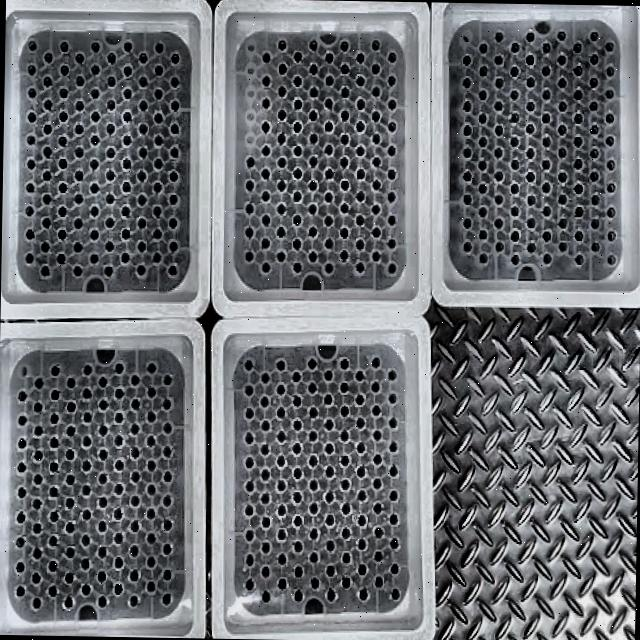vial: (606, 254, 617, 268), (605, 64, 615, 77), (26, 39, 36, 52), (105, 146, 115, 159), (49, 460, 59, 473), (49, 436, 58, 450), (494, 170, 504, 182), (573, 87, 582, 100), (17, 414, 26, 427), (557, 29, 566, 41), (605, 112, 614, 124), (542, 205, 551, 217), (355, 145, 364, 157), (152, 252, 161, 264), (260, 444, 269, 456), (373, 501, 382, 513), (340, 502, 349, 514), (390, 537, 399, 549), (162, 543, 171, 555), (66, 546, 75, 558), (32, 547, 41, 559), (526, 30, 534, 43), (17, 437, 25, 450), (557, 194, 567, 204), (494, 101, 503, 112), (574, 206, 583, 217), (478, 206, 487, 217), (542, 253, 551, 264), (261, 121, 270, 132), (245, 179, 254, 190), (60, 41, 69, 52), (123, 65, 132, 76), (154, 88, 163, 99), (74, 147, 83, 158), (154, 158, 163, 169), (339, 358, 348, 369), (261, 542, 270, 553), (359, 589, 368, 600), (50, 389, 59, 400), (64, 597, 73, 608), (81, 584, 90, 595), (293, 121, 301, 133), (123, 40, 131, 52), (371, 381, 379, 393), (309, 430, 317, 442), (278, 553, 286, 565), (261, 590, 269, 602), (82, 387, 90, 399), (131, 471, 139, 483), (65, 572, 73, 584), (16, 586, 24, 598), (557, 124, 566, 134), (510, 159, 519, 169), (574, 230, 583, 240), (277, 40, 286, 50), (276, 251, 285, 261), (154, 65, 163, 75), (43, 76, 52, 86), (170, 100, 179, 110), (169, 171, 178, 181), (168, 194, 177, 204), (169, 241, 178, 251), (276, 407, 285, 417), (325, 466, 334, 476), (356, 467, 365, 477), (341, 480, 350, 490), (324, 492, 333, 502), (293, 516, 302, 526), (325, 514, 334, 524), (277, 529, 286, 539), (326, 590, 335, 600), (50, 366, 59, 376), (66, 377, 75, 387), (34, 378, 43, 388), (98, 399, 107, 409), (49, 416, 58, 426), (114, 412, 123, 422), (114, 435, 123, 445), (34, 450, 43, 460), (66, 475, 75, 485), (49, 486, 58, 496), (16, 511, 25, 521), (65, 522, 74, 532), (81, 535, 90, 545), (146, 533, 155, 543), (48, 561, 57, 571), (48, 587, 57, 597), (589, 31, 597, 42), (606, 135, 614, 146), (526, 171, 534, 182), (558, 170, 566, 181), (511, 254, 519, 265), (170, 77, 178, 88), (153, 205, 161, 216), (169, 217, 177, 228), (137, 241, 145, 252), (261, 420, 269, 431), (245, 433, 253, 444), (326, 540, 334, 551), (357, 539, 365, 550), (245, 579, 253, 590), (391, 588, 399, 599), (163, 519, 171, 530), (49, 535, 57, 546), (114, 533, 122, 544), (81, 558, 89, 569), (147, 556, 155, 567), (98, 596, 106, 607), (114, 583, 122, 594), (130, 595, 138, 606), (543, 88, 550, 100), (293, 238, 300, 250), (91, 134, 98, 146), (310, 479, 317, 491), (246, 554, 253, 566), (391, 563, 398, 575), (294, 589, 301, 601), (147, 580, 154, 592), (605, 42, 614, 51), (510, 231, 519, 240), (575, 255, 584, 264), (371, 40, 380, 49), (105, 217, 114, 226), (153, 230, 162, 239), (25, 252, 34, 261), (292, 396, 301, 405), (372, 479, 381, 488), (309, 504, 318, 513), (261, 517, 270, 526), (389, 515, 398, 524), (374, 527, 383, 536), (341, 528, 350, 537), (114, 484, 123, 493), (98, 497, 107, 506), (574, 66, 582, 76), (542, 43, 550, 53), (495, 32, 503, 42), (511, 42, 519, 52), (589, 78, 597, 88), (510, 89, 518, 99), (542, 113, 550, 123), (463, 126, 471, 136), (573, 136, 581, 146), (558, 147, 566, 157), (606, 159, 614, 169), (574, 159, 582, 169), (574, 183, 582, 193), (463, 194, 471, 204), (527, 195, 535, 205), (607, 231, 615, 241), (463, 241, 471, 251), (591, 242, 599, 252), (479, 253, 487, 263), (341, 86, 349, 96), (356, 100, 364, 110), (372, 111, 380, 121), (246, 156, 254, 166), (340, 156, 348, 166), (325, 169, 333, 179), (341, 179, 349, 189), (293, 191, 301, 201), (324, 216, 332, 226), (245, 228, 253, 238), (309, 227, 317, 237), (340, 228, 348, 238), (325, 239, 333, 249), (261, 238, 269, 248), (293, 263, 301, 273), (262, 262, 270, 272), (107, 53, 115, 63), (28, 65, 36, 75), (139, 76, 147, 86), (107, 100, 115, 110), (91, 111, 99, 121), (170, 124, 178, 134), (107, 123, 115, 133), (154, 135, 162, 145), (90, 158, 98, 168), (170, 147, 178, 157), (122, 182, 130, 192), (74, 218, 82, 228), (90, 230, 98, 240), (121, 229, 129, 239), (41, 242, 49, 252), (121, 253, 129, 263), (137, 265, 145, 275), (105, 266, 113, 276), (355, 371, 363, 381), (308, 359, 316, 369), (261, 373, 269, 383), (340, 382, 348, 392), (276, 384, 284, 394), (261, 397, 269, 407), (324, 395, 332, 405), (293, 420, 301, 430), (356, 418, 364, 428), (373, 430, 381, 440), (340, 431, 348, 441), (373, 454, 381, 464), (341, 455, 349, 465), (389, 466, 397, 476), (277, 480, 285, 490), (358, 564, 366, 574), (310, 578, 318, 588), (147, 387, 155, 397), (67, 402, 75, 412), (83, 412, 91, 422), (147, 411, 155, 421), (163, 423, 171, 433), (99, 425, 107, 435), (131, 448, 139, 458), (147, 460, 155, 470), (163, 472, 171, 482), (98, 474, 106, 484), (33, 474, 41, 484), (82, 485, 90, 495), (147, 484, 155, 494), (33, 499, 41, 509), (114, 508, 122, 518), (130, 546, 138, 556), (130, 570, 138, 580), (98, 571, 106, 581), (32, 573, 40, 583), (32, 598, 40, 608), (542, 136, 549, 147), (607, 207, 614, 218), (372, 357, 379, 368), (341, 405, 348, 416), (309, 455, 316, 466), (261, 469, 268, 480), (294, 468, 301, 479), (294, 541, 301, 552), (278, 578, 285, 589), (163, 594, 170, 605), (605, 89, 613, 98), (462, 102, 470, 111), (590, 101, 598, 110), (495, 125, 503, 134), (478, 138, 487, 146), (494, 148, 502, 157), (542, 183, 550, 192), (511, 184, 519, 193), (262, 53, 270, 62), (293, 52, 301, 61), (325, 76, 333, 85), (324, 145, 332, 154), (372, 180, 380, 189), (293, 216, 301, 225), (123, 88, 131, 97), (43, 124, 51, 133), (123, 135, 131, 144), (42, 171, 50, 180), (58, 207, 66, 216), (57, 254, 65, 263), (168, 266, 176, 275), (73, 265, 81, 274), (244, 361, 253, 369), (244, 387, 253, 395), (356, 396, 364, 405), (372, 406, 380, 415), (277, 431, 285, 440), (325, 444, 333, 453), (356, 443, 364, 452), (293, 492, 301, 501), (358, 491, 366, 500), (389, 490, 397, 499), (245, 506, 253, 515), (310, 530, 318, 539), (342, 553, 350, 562), (294, 567, 302, 576), (115, 364, 123, 373), (34, 426, 42, 435), (17, 463, 25, 472), (82, 461, 90, 470), (65, 498, 73, 507), (131, 522, 139, 531), (33, 523, 41, 532), (98, 547, 106, 556), (114, 557, 122, 566), (163, 569, 171, 578), (574, 42, 581, 52), (463, 54, 470, 64), (495, 55, 502, 65), (558, 77, 565, 87), (463, 77, 470, 87), (495, 78, 502, 88), (526, 124, 533, 134), (463, 147, 470, 157), (479, 160, 486, 170), (479, 183, 486, 193), (511, 206, 518, 216), (527, 218, 534, 228), (543, 231, 550, 241), (559, 241, 566, 251), (372, 64, 379, 74), (357, 75, 364, 85), (279, 64, 286, 74), (293, 76, 300, 86), (278, 87, 285, 97), (262, 98, 269, 108), (325, 122, 332, 132), (372, 134, 379, 144), (373, 157, 380, 167), (309, 180, 316, 190), (325, 192, 332, 202), (246, 203, 253, 213), (341, 203, 348, 213), (372, 204, 379, 214), (262, 215, 269, 225), (388, 238, 395, 248), (325, 263, 332, 273), (45, 52, 52, 62), (75, 101, 82, 111), (44, 99, 51, 109), (123, 112, 130, 122), (155, 112, 162, 122), (75, 124, 82, 134), (43, 146, 50, 156), (59, 158, 66, 168), (123, 159, 130, 169), (154, 182, 161, 192), (138, 195, 145, 205), (138, 218, 145, 228), (58, 229, 65, 239), (41, 266, 48, 276), (277, 360, 284, 370), (388, 370, 395, 380), (309, 383, 316, 393), (246, 408, 253, 418), (293, 443, 300, 453), (246, 481, 253, 491), (358, 516, 365, 526), (246, 530, 253, 540), (310, 552, 317, 562), (375, 550, 382, 560), (262, 566, 269, 576), (342, 577, 349, 587), (131, 375, 138, 385), (83, 365, 90, 375), (99, 376, 106, 386), (115, 388, 122, 398), (131, 424, 138, 434), (67, 426, 74, 436), (83, 436, 90, 446), (99, 449, 106, 459), (83, 509, 90, 519), (147, 509, 154, 519), (526, 103, 534, 111), (463, 172, 471, 180), (590, 172, 598, 180), (607, 184, 615, 192), (494, 219, 502, 227), (590, 219, 598, 227), (479, 230, 487, 238), (495, 242, 503, 250), (309, 65, 317, 73), (356, 170, 364, 178), (261, 170, 269, 178), (277, 181, 285, 189), (387, 193, 395, 201), (75, 77, 83, 85), (58, 137, 66, 145), (139, 148, 147, 156), (106, 172, 114, 180), (42, 195, 50, 203), (105, 242, 113, 250), (389, 443, 397, 451), (163, 496, 171, 504), (50, 512, 58, 520), (511, 67, 518, 76), (527, 78, 534, 87), (479, 91, 486, 100), (559, 102, 566, 111), (574, 113, 581, 122), (479, 113, 486, 122), (511, 137, 518, 146), (463, 219, 470, 228), (388, 52, 395, 61), (356, 53, 363, 62), (341, 65, 348, 74), (262, 75, 269, 84), (294, 99, 301, 108), (356, 122, 363, 131), (262, 145, 269, 154), (278, 158, 285, 167), (309, 157, 316, 166), (294, 169, 301, 178), (356, 192, 363, 201), (261, 191, 268, 200), (309, 205, 316, 214), (372, 228, 379, 237), (309, 252, 316, 261), (340, 251, 347, 260), (388, 263, 395, 272), (171, 53, 178, 62), (155, 43, 162, 52), (76, 53, 83, 62), (61, 65, 68, 74), (108, 76, 115, 85), (90, 183, 97, 192), (106, 195, 113, 204), (91, 206, 98, 215), (90, 254, 97, 263), (324, 371, 331, 380), (389, 394, 396, 403), (310, 408, 317, 417), (261, 493, 268, 502), (278, 505, 285, 514), (148, 363, 155, 372), (131, 400, 138, 409), (147, 436, 154, 445), (115, 460, 122, 469), (131, 496, 138, 505), (98, 521, 105, 530), (17, 537, 24, 546), (527, 147, 533, 157), (341, 41, 347, 51), (310, 40, 316, 50), (373, 87, 379, 97), (279, 110, 285, 120), (388, 146, 394, 156), (278, 204, 284, 214), (357, 215, 363, 225), (278, 227, 284, 237), (357, 262, 363, 272), (122, 206, 128, 216), (43, 218, 49, 228), (326, 419, 332, 429), (19, 391, 25, 401), (18, 487, 24, 497), (590, 55, 597, 63), (558, 56, 565, 64), (526, 56, 533, 64), (542, 67, 549, 75), (590, 149, 597, 157), (542, 160, 549, 168), (495, 195, 502, 203), (559, 219, 566, 227), (310, 88, 317, 96), (388, 123, 395, 131), (341, 135, 348, 143), (356, 241, 364, 248), (91, 90, 98, 98), (60, 90, 68, 97), (28, 89, 35, 97), (28, 114, 35, 122), (75, 171, 82, 179), (59, 184, 66, 192), (74, 243, 81, 251), (389, 419, 396, 427), (277, 458, 284, 466), (246, 459, 253, 467), (375, 578, 382, 586), (163, 400, 170, 408), (35, 403, 42, 411), (66, 449, 73, 457), (480, 43, 486, 52), (326, 52, 332, 61), (294, 146, 300, 155), (140, 124, 146, 133), (293, 372, 299, 381), (327, 566, 333, 575), (164, 447, 170, 456), (592, 195, 597, 205), (372, 254, 379, 261), (92, 66, 99, 73), (138, 172, 145, 179), (27, 185, 34, 192), (479, 68, 487, 74), (591, 127, 597, 135), (388, 76, 394, 84), (389, 100, 395, 108), (325, 99, 331, 107), (278, 134, 284, 142), (311, 135, 317, 143), (388, 170, 394, 178), (140, 54, 146, 62), (92, 43, 98, 51), (140, 101, 146, 109), (28, 136, 34, 144), (164, 376, 170, 384), (18, 563, 23, 572), (511, 114, 517, 121), (528, 244, 534, 251), (341, 111, 347, 118), (388, 216, 394, 223), (245, 254, 252, 260), (60, 114, 66, 121), (75, 196, 82, 202), (29, 161, 34, 169), (310, 112, 316, 118), (28, 229, 33, 236), (28, 208, 33, 214)
